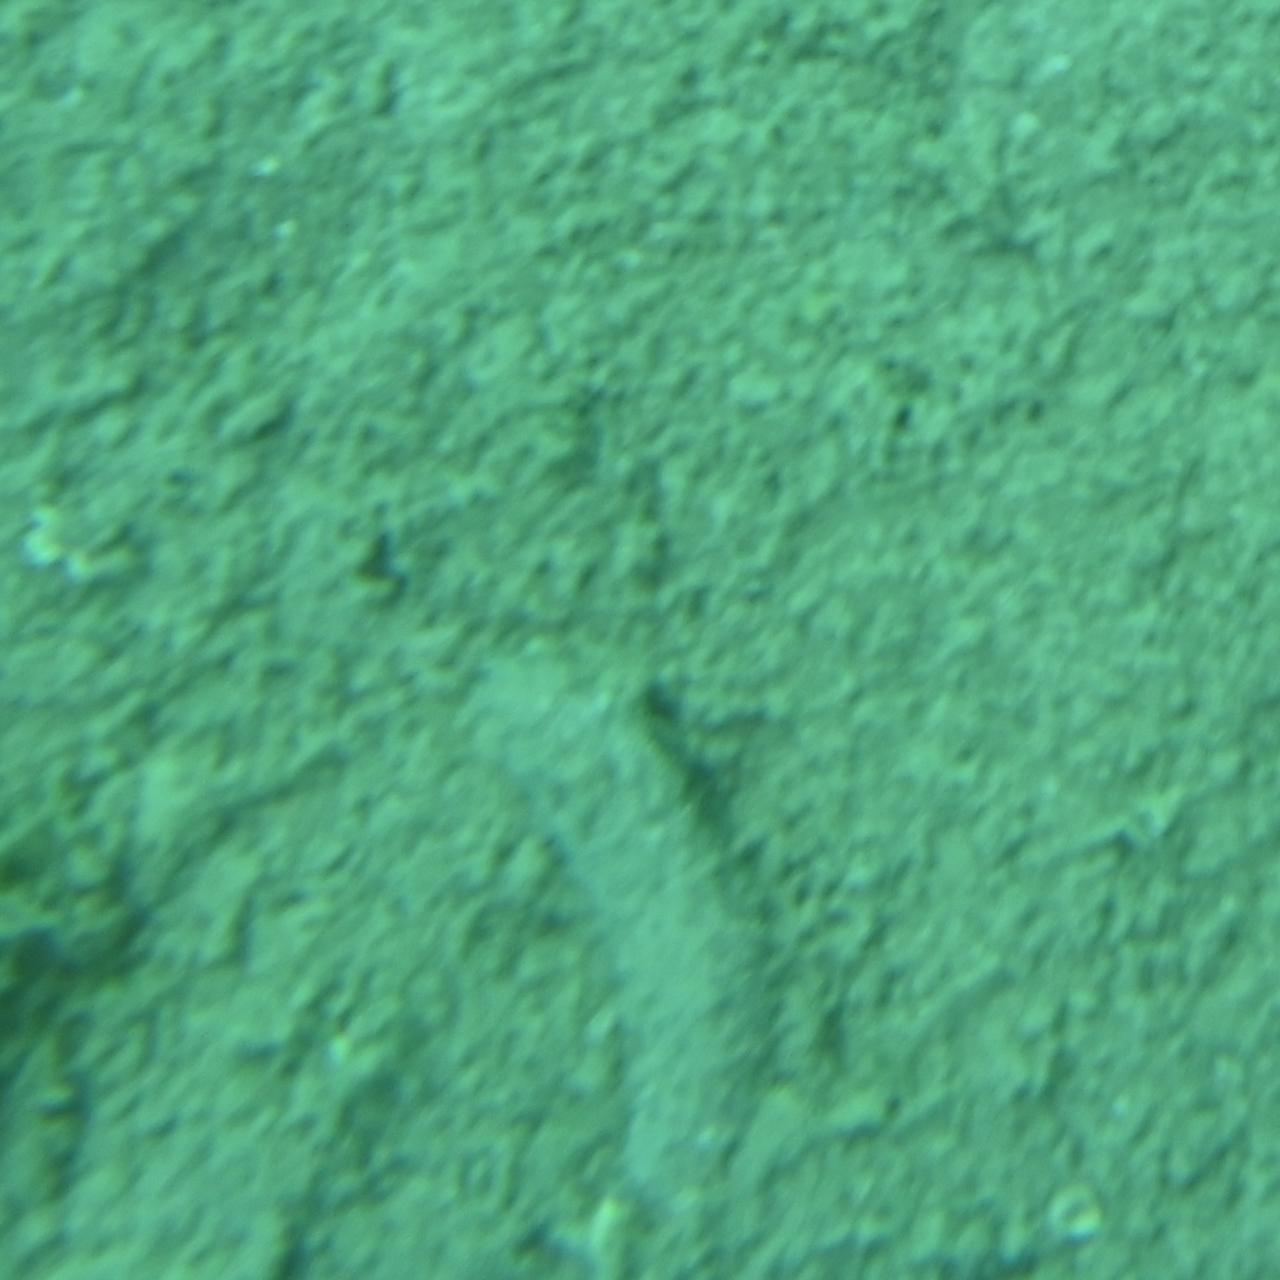Holothuria tubulosa: (494, 642, 786, 1238)
